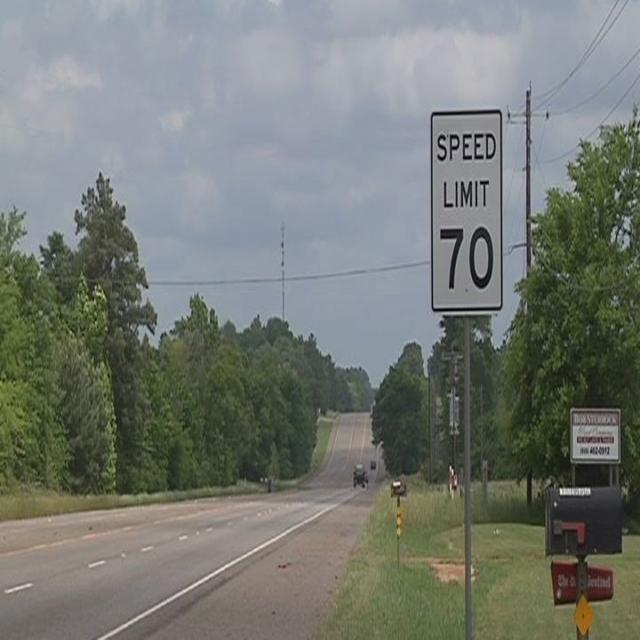speedLimit70: (435, 120, 499, 298)
